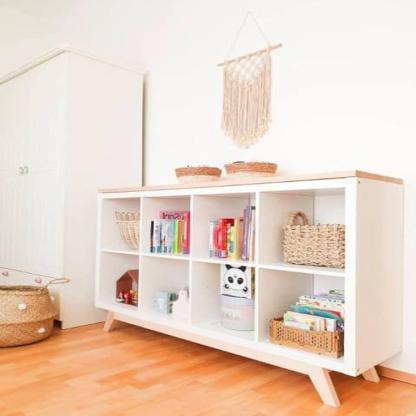lamp: (91, 169, 406, 406)
